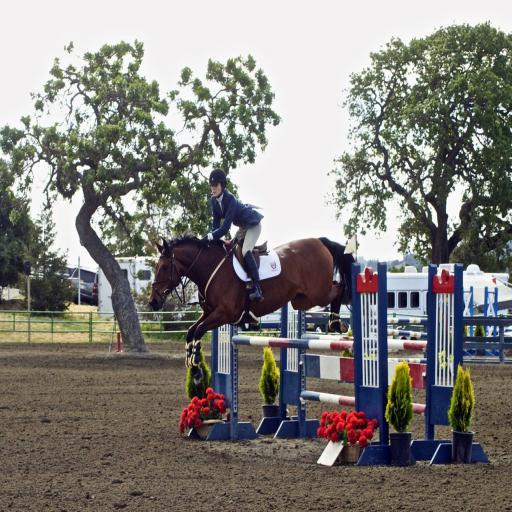Horse: (145, 238, 361, 388)
